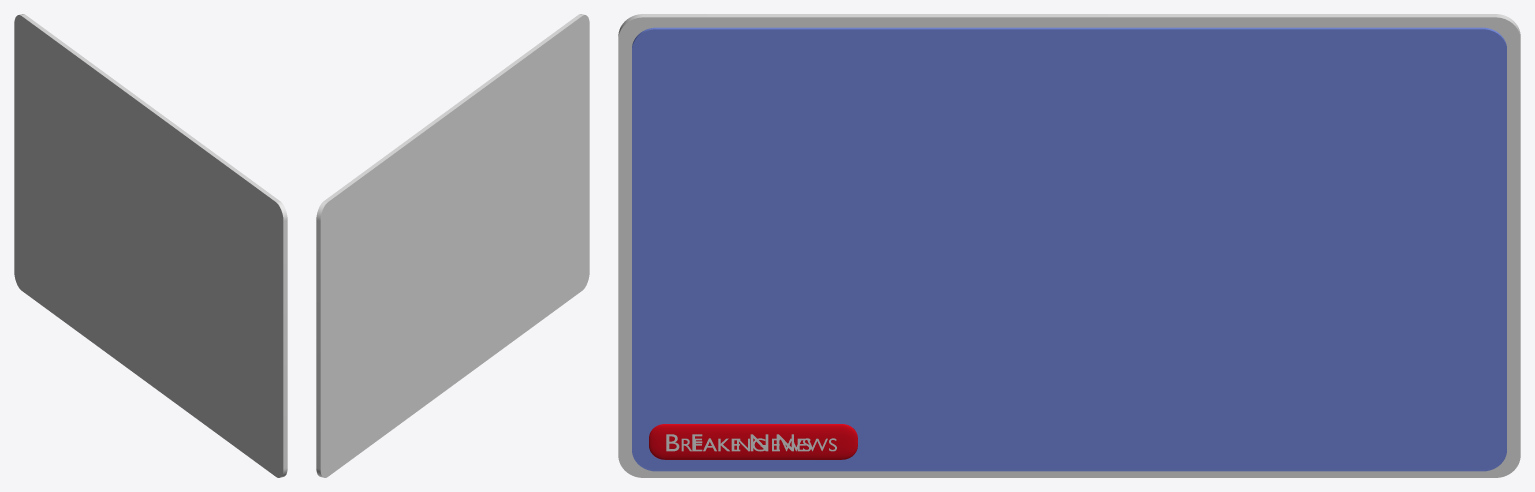
File: NewsFrame.fbx
The picture shows the model from 3 angles, left to right: view 1: azimuth 30°, elevation 25°; view 2: azimuth 150°, elevation 25°; view 3: azimuth 270°, elevation 25°; orthographic projection. The views are drawn at different scales.
Parts seen in each view (by area): view 1: Background; view 2: Background; view 3: Screen, Background, Würfel, Text.
Boxes of the visible parts, bbox=[...] form: Background: bbox=[14, 14, 287, 477]; Background: bbox=[316, 14, 589, 477]; Screen: bbox=[632, 27, 1506, 471]; Background: bbox=[618, 14, 1520, 477]; Würfel: bbox=[649, 424, 857, 459]; Text: bbox=[666, 434, 836, 451].
Bounding box in the file's own units: 0.273 × 6.07 × 10.78.
